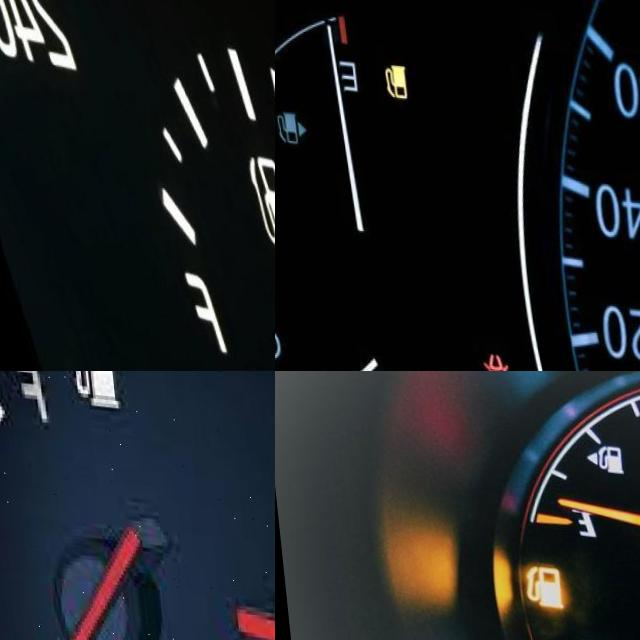Seat Belt: (473, 343, 505, 371)
